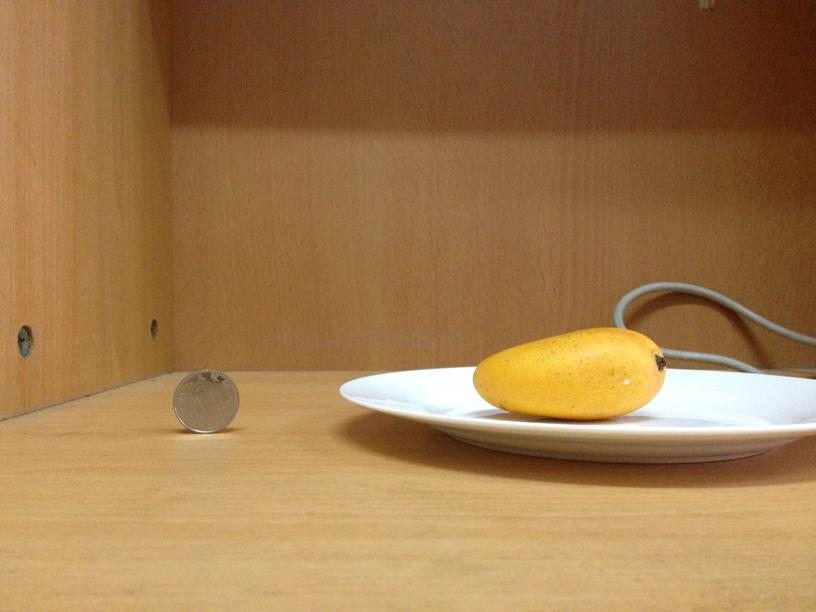coin: (172, 367, 238, 433)
mango: (476, 326, 664, 420)
